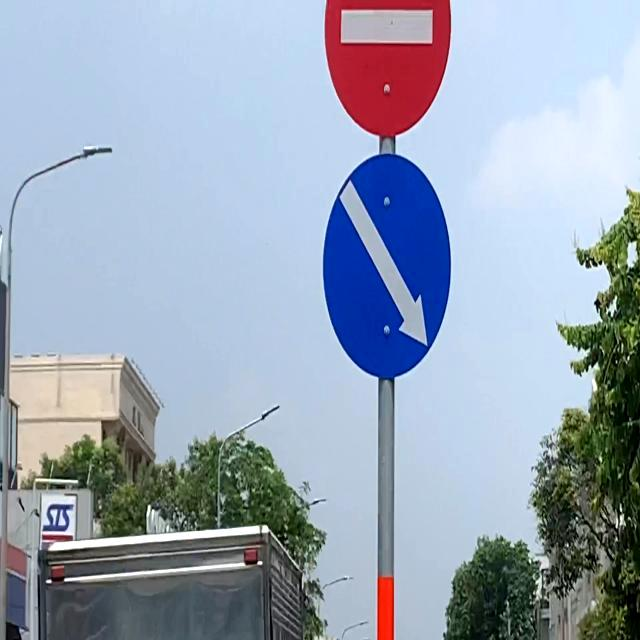Cam di nguoc chieu: (323, 0, 458, 139)
Vong chuong ngai vat sang phai: (319, 144, 456, 384)
